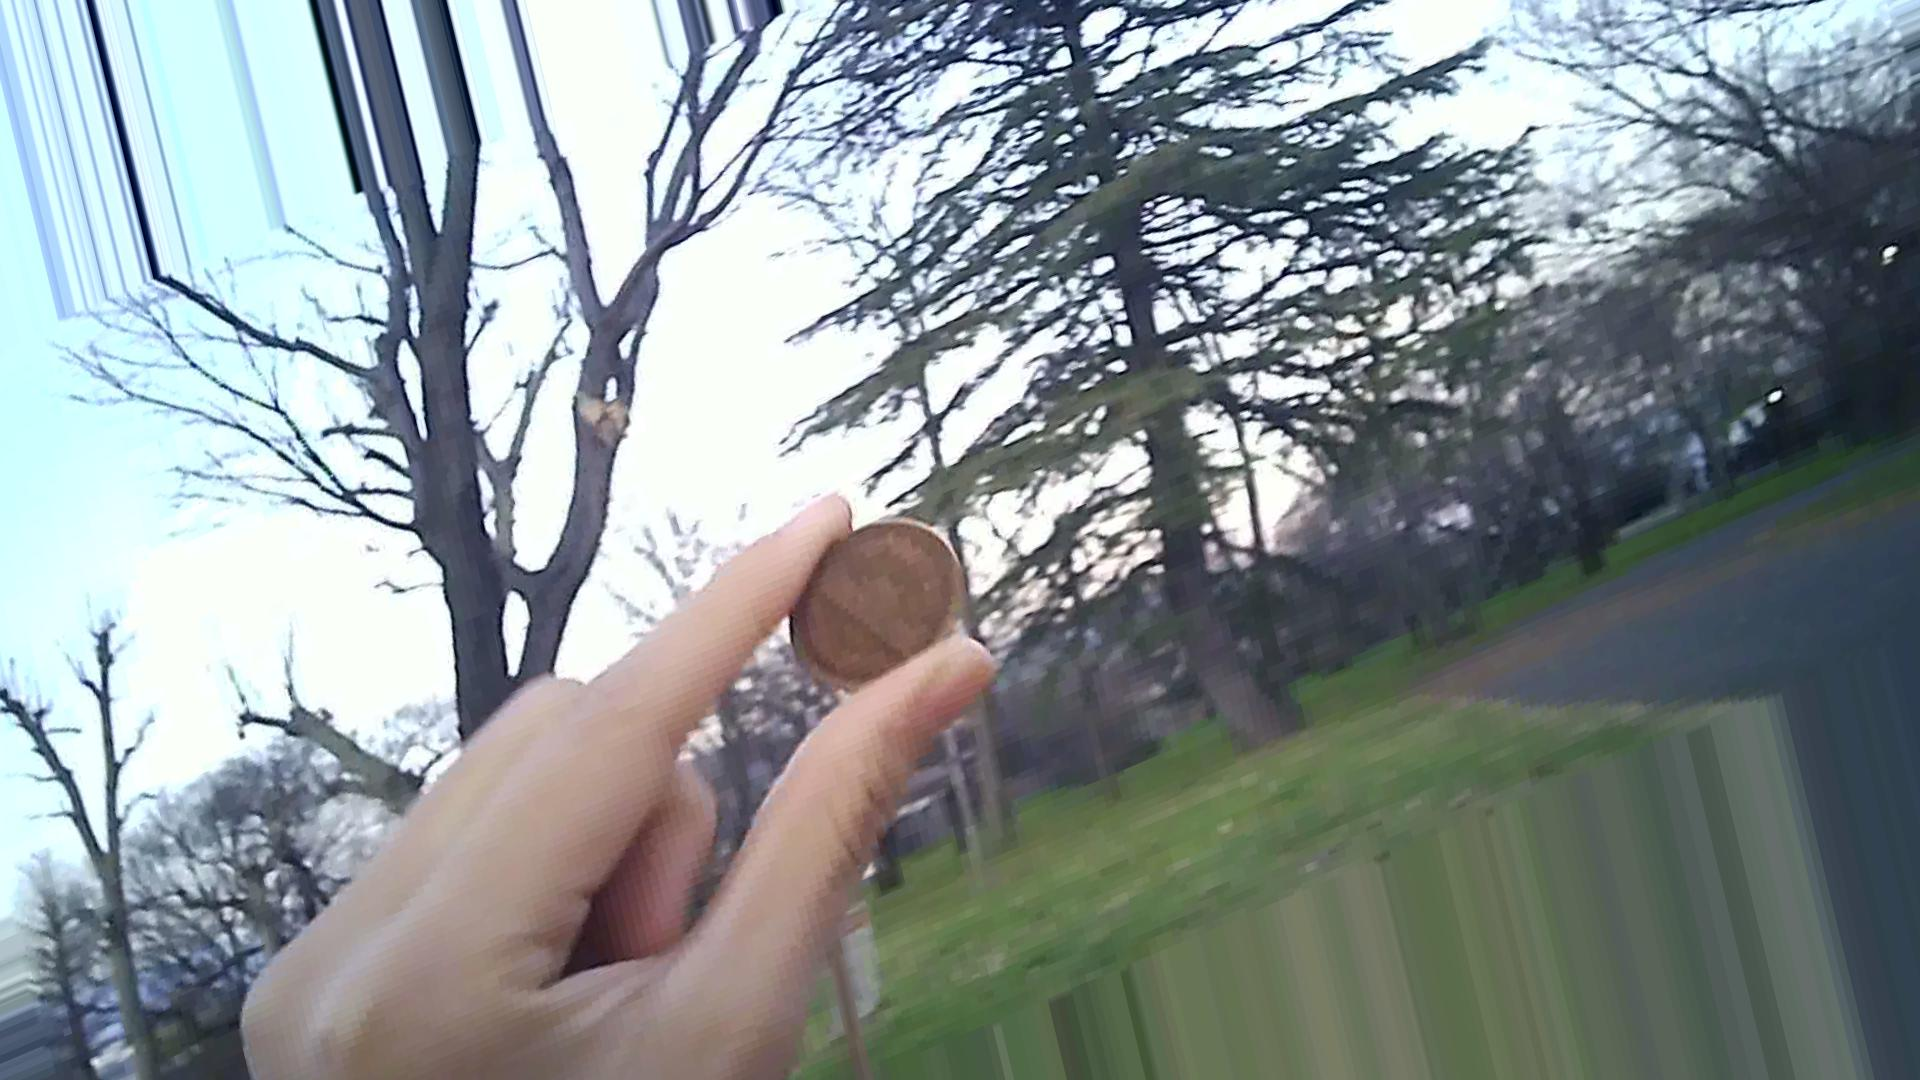10 Yen: (778, 506, 967, 694)
